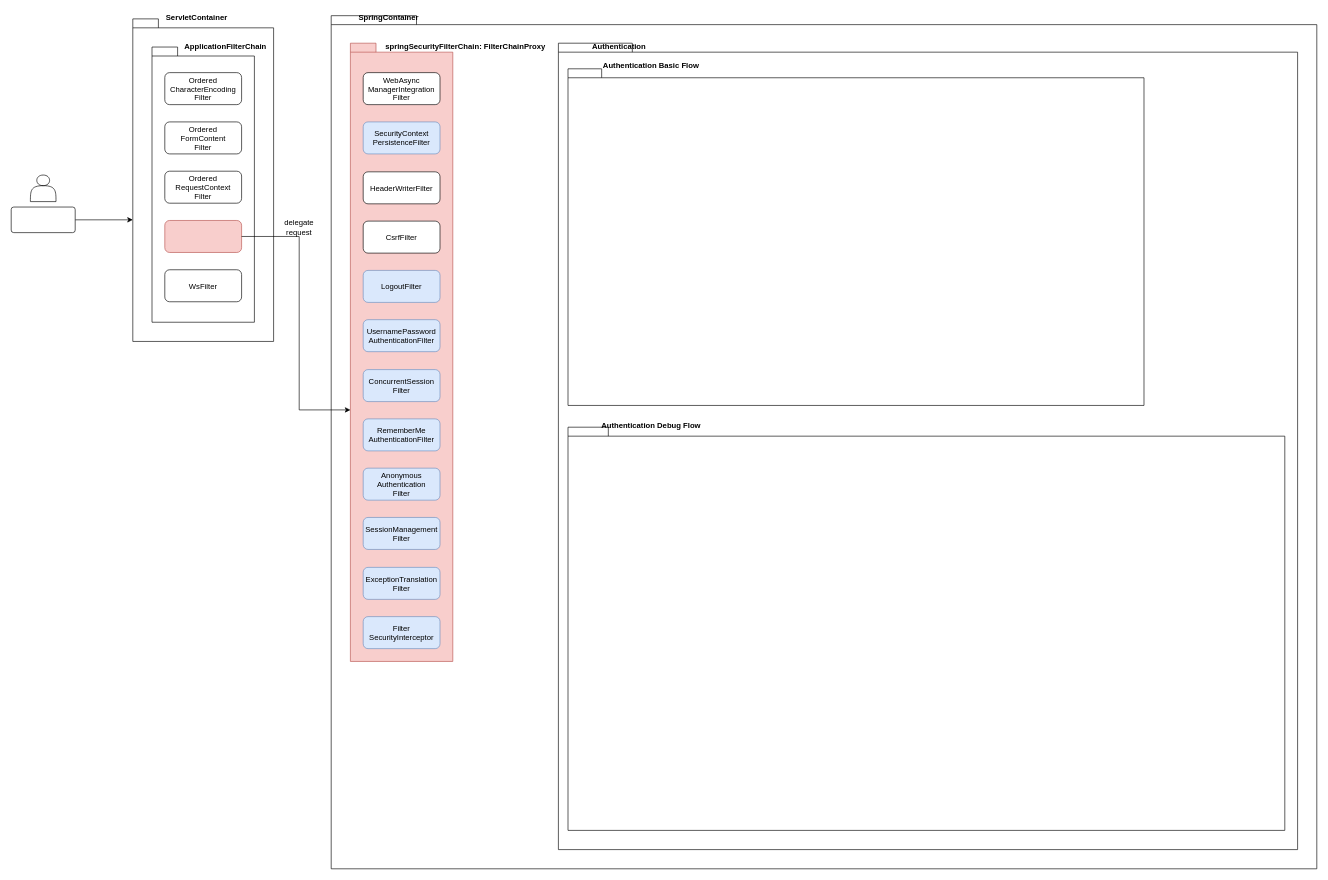
This 1328x880 diagram has some shape labels left out. The centre of each missing label's shape, as x and y in pixels:
"Browser" belongs at [43,219].
"Delegating Filter ProxyRegistration Bean" belongs at [203,236].
